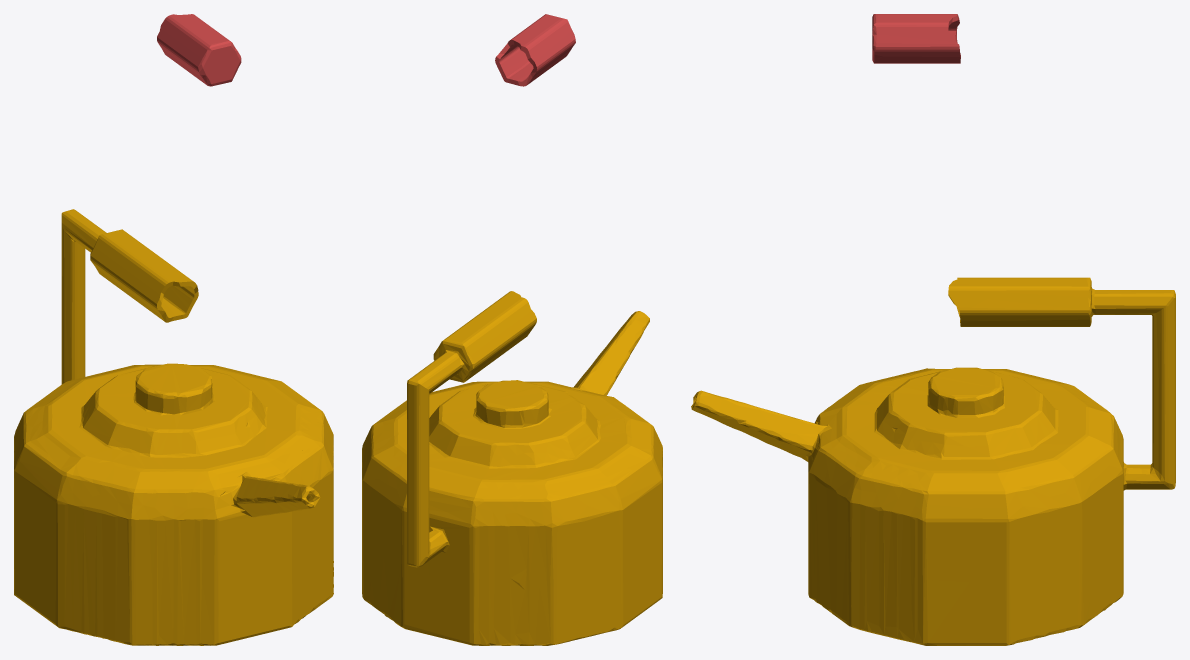
File: fractured_78_2pcs_transformed.glb
The picture shows the model from 3 angles, left to right: view 1: azimuth 30°, elevation 25°; view 2: azimuth 150°, elevation 25°; view 3: azimuth 270°, elevation 25°; orthographic projection. The views are drawn at different scales.
Parts seen in each view (by area): view 1: piece_0.obj, piece_1.obj; view 2: piece_0.obj, piece_1.obj; view 3: piece_0.obj, piece_1.obj.
Part boxes in pixels (x1,y1,x2,y2): piece_0.obj: (14,209,333,645); piece_1.obj: (157,14,241,86); piece_0.obj: (362,291,662,645); piece_1.obj: (495,14,575,86); piece_0.obj: (691,277,1175,645); piece_1.obj: (872,14,960,63).
Bounding box in the file's own units: 0.6508 × 1.28 × 1.
